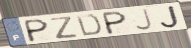D: (74, 13, 102, 37)
J: (160, 5, 181, 30), (134, 8, 155, 32)
P: (102, 10, 128, 36), (24, 18, 50, 43)
Z: (49, 15, 79, 40)
